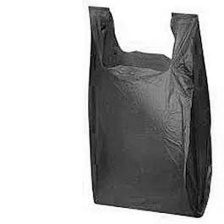plastic_bag: (81, 1, 215, 220)
